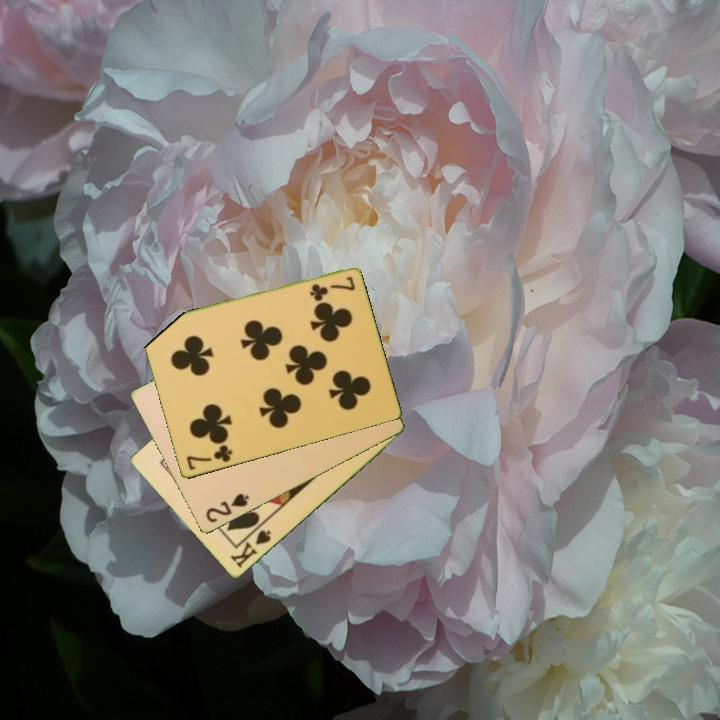2s: (202, 490, 252, 526)
7c: (183, 442, 235, 473), (306, 273, 358, 302)
Ks: (226, 526, 274, 572)
